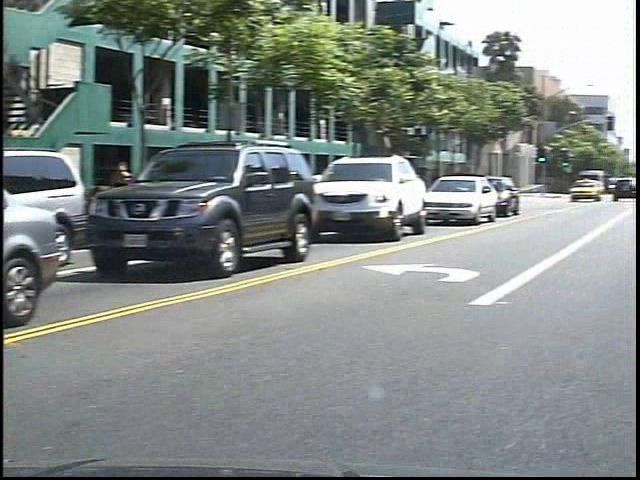person: (123, 156, 152, 235)
